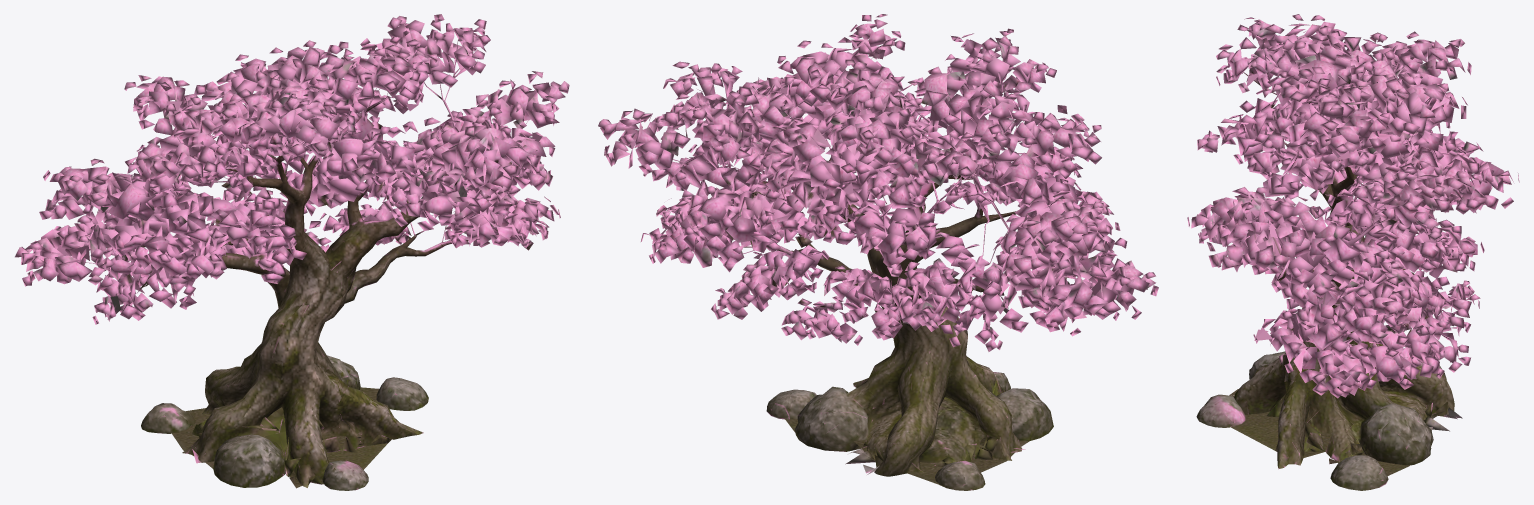
Rendered from Meshy_AI_Midnight_Sakura_20261118_texture.fbx.
3 renders of one model, left to right at view 1: azimuth 30°, elevation 25°; view 2: azimuth 150°, elevation 25°; view 3: azimuth 270°, elevation 25°, orthographic.
Parts seen in each view (by area): view 1: Mesh_0; view 2: Mesh_0; view 3: Mesh_0.
Boxes of the visible parts, <box> form: Mesh_0: <box>15,14,569,490</box>; Mesh_0: <box>598,14,1158,490</box>; Mesh_0: <box>1187,14,1519,490</box>.
Bounding box in the file's own units: 94.58 × 63.18 × 49.66.
1 material, 1 textured.
